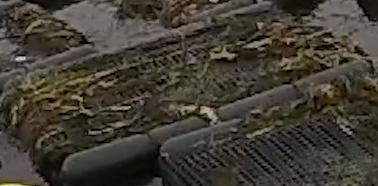bag: (7, 4, 368, 182)
